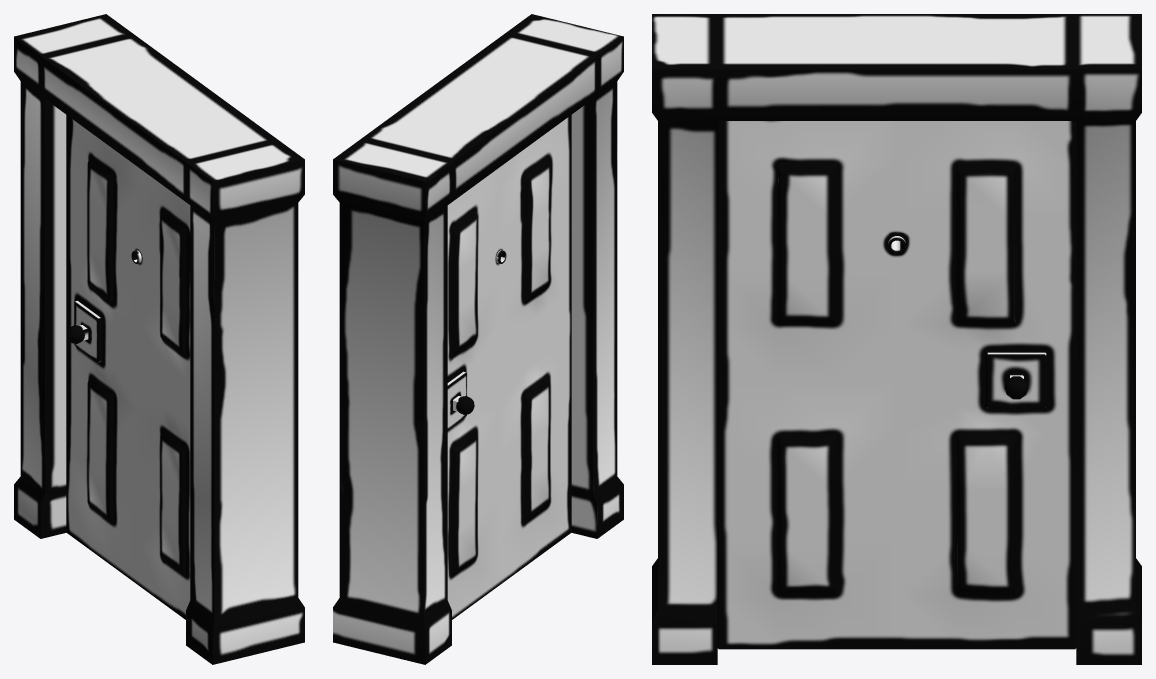
The model's file is door 2.fbx.
3 views of the same model, side by side, from view 1: azimuth 30°, elevation 25°; view 2: azimuth 150°, elevation 25°; view 3: azimuth 270°, elevation 25° (orthographic). The views are drawn at different scales.
Parts seen in each view (by area): view 1: Door Frame, Door; view 2: Door Frame, Door; view 3: Door, Door Frame.
Part boxes in pixels (x1,y1,x2,y2): Door Frame: (14, 14, 304, 664); Door: (66, 115, 190, 619); Door Frame: (333, 14, 623, 664); Door: (447, 115, 571, 619); Door: (717, 121, 1076, 649); Door Frame: (652, 14, 1141, 664).
Bounding box in the file's own units: 220 × 1100 × 820.
